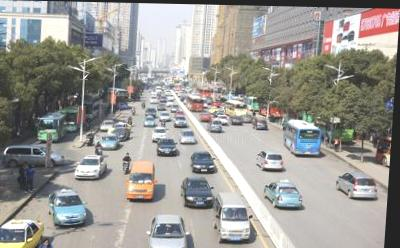License_Plate: (195, 200, 204, 205)
